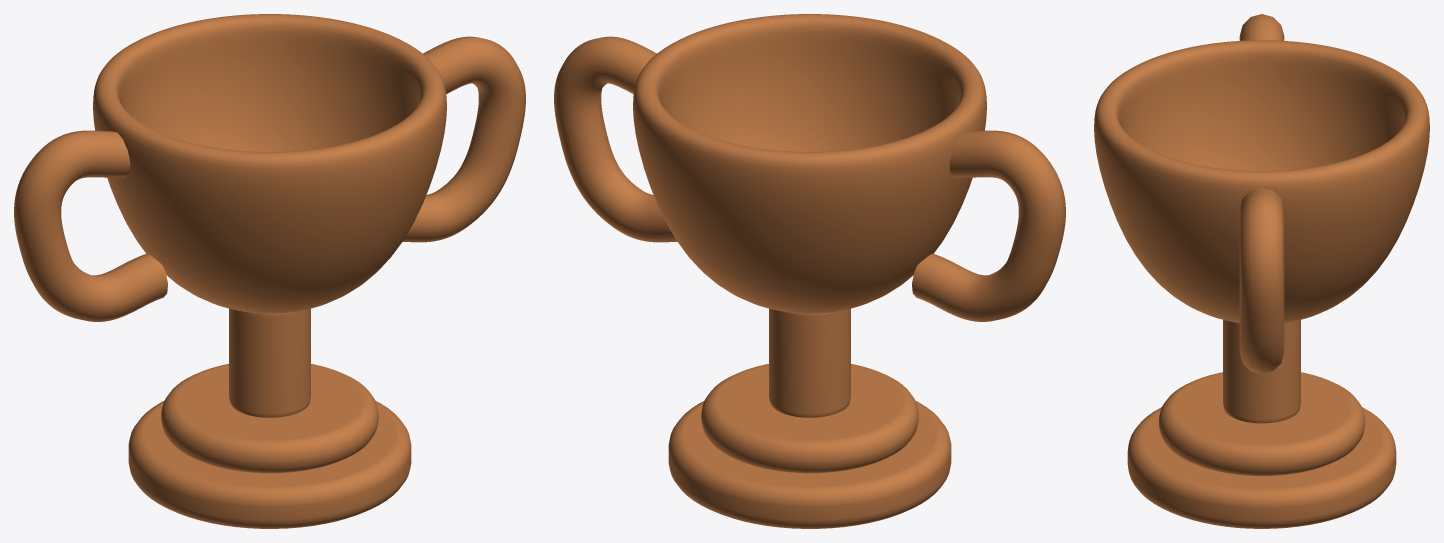
File: trophy-bronze.glb
3 views of the same model, side by side, from view 1: azimuth 30°, elevation 25°; view 2: azimuth 150°, elevation 25°; view 3: azimuth 270°, elevation 25° (orthographic). The views are drawn at different scales.
Parts seen in each view (by area): view 1: Hollow rounded trophy cup.001, Lower round plinth.001, Upper round plinth.001, Left rounded handle.001, Right rounded handle.001, Stem.001; view 2: Hollow rounded trophy cup.001, Lower round plinth.001, Upper round plinth.001, Left rounded handle.001, Right rounded handle.001, Stem.001; view 3: Hollow rounded trophy cup.001, Lower round plinth.001, Upper round plinth.001, Right rounded handle.001, Stem.001, Left rounded handle.001.
Boxes of the visible parts, box(x1,y1,x2,y2) form: Hollow rounded trophy cup.001: box(93, 14, 446, 313); Lower round plinth.001: box(128, 400, 411, 528); Upper round plinth.001: box(161, 364, 378, 473); Left rounded handle.001: box(14, 130, 167, 321); Right rounded handle.001: box(402, 36, 525, 242); Stem.001: box(229, 308, 310, 417); Hollow rounded trophy cup.001: box(633, 14, 986, 313); Lower round plinth.001: box(668, 400, 951, 528); Upper round plinth.001: box(701, 364, 918, 473); Left rounded handle.001: box(912, 130, 1065, 321); Right rounded handle.001: box(554, 36, 677, 242); Stem.001: box(769, 308, 850, 417); Hollow rounded trophy cup.001: box(1094, 40, 1429, 322); Lower round plinth.001: box(1127, 407, 1396, 528); Upper round plinth.001: box(1159, 372, 1364, 475); Right rounded handle.001: box(1239, 188, 1284, 373); Stem.001: box(1223, 320, 1300, 423); Left rounded handle.001: box(1239, 14, 1284, 40).
Bounding box in the file's own units: 4.55 × 3.35 × 2.76.
